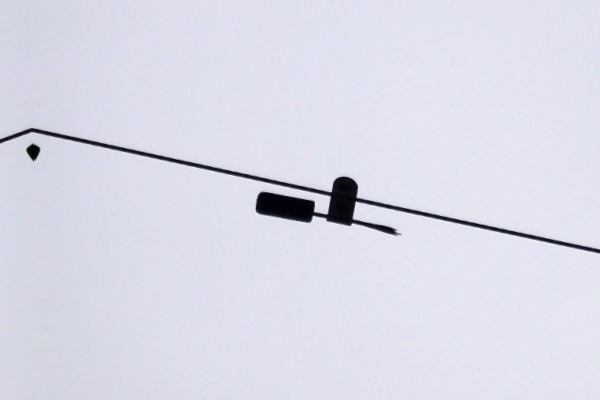damper_defect: (249, 176, 404, 239)
